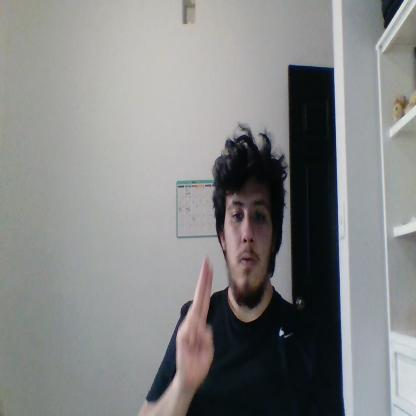U: (176, 256, 214, 390)
